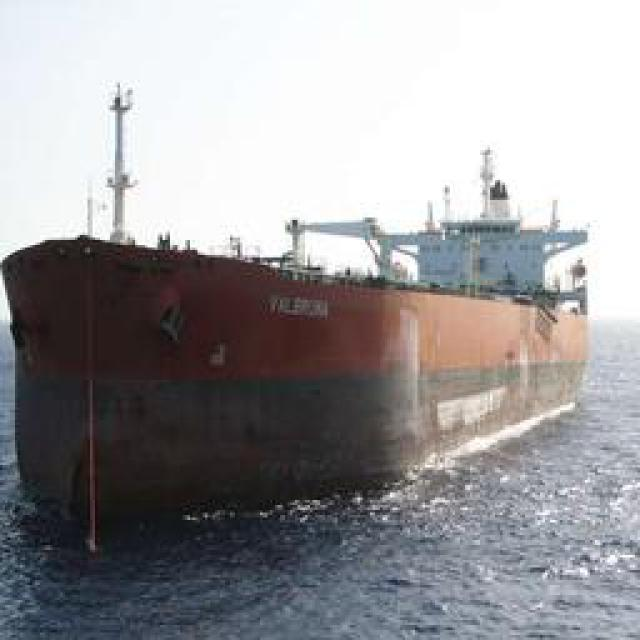Ship: (22, 172, 595, 515)
